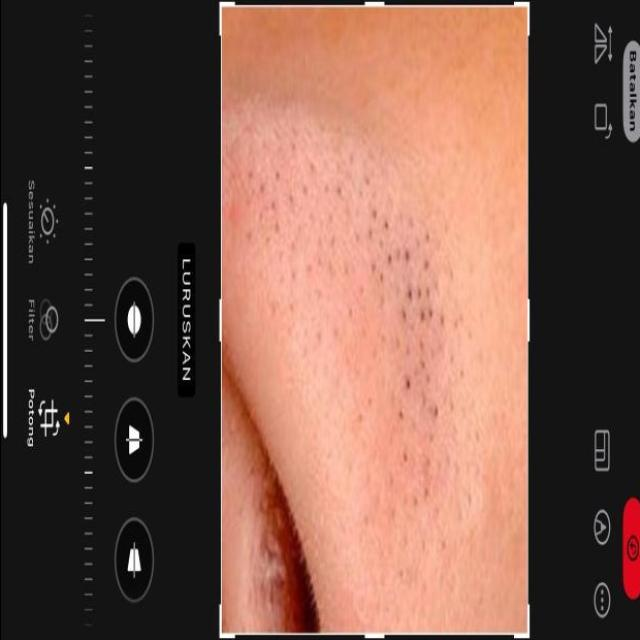blackhead: (295, 133, 458, 568)
